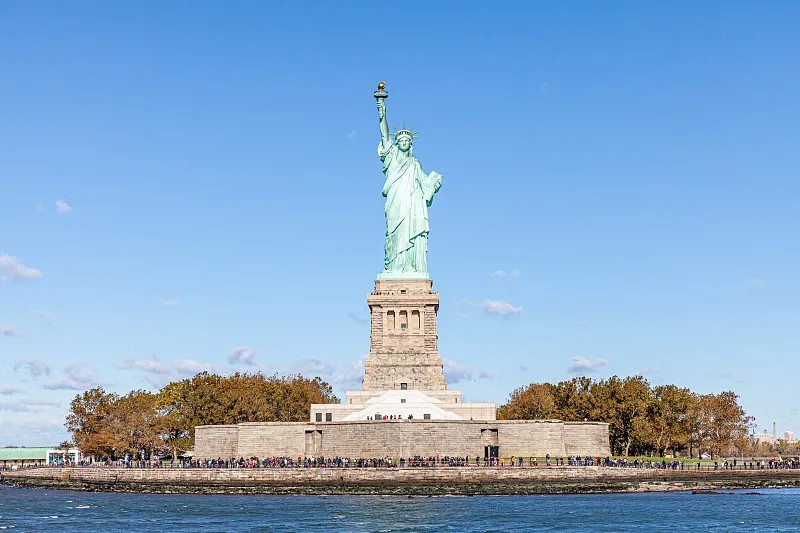SL: (361, 80, 448, 391)
